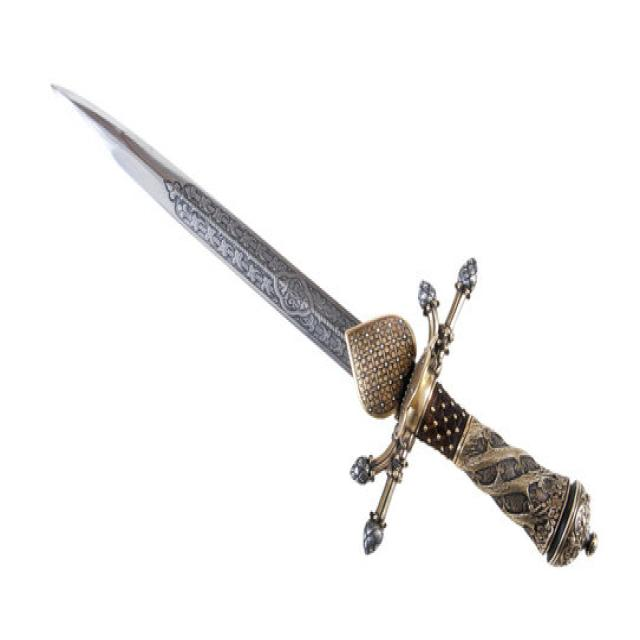Gun: (29, 68, 602, 585)
